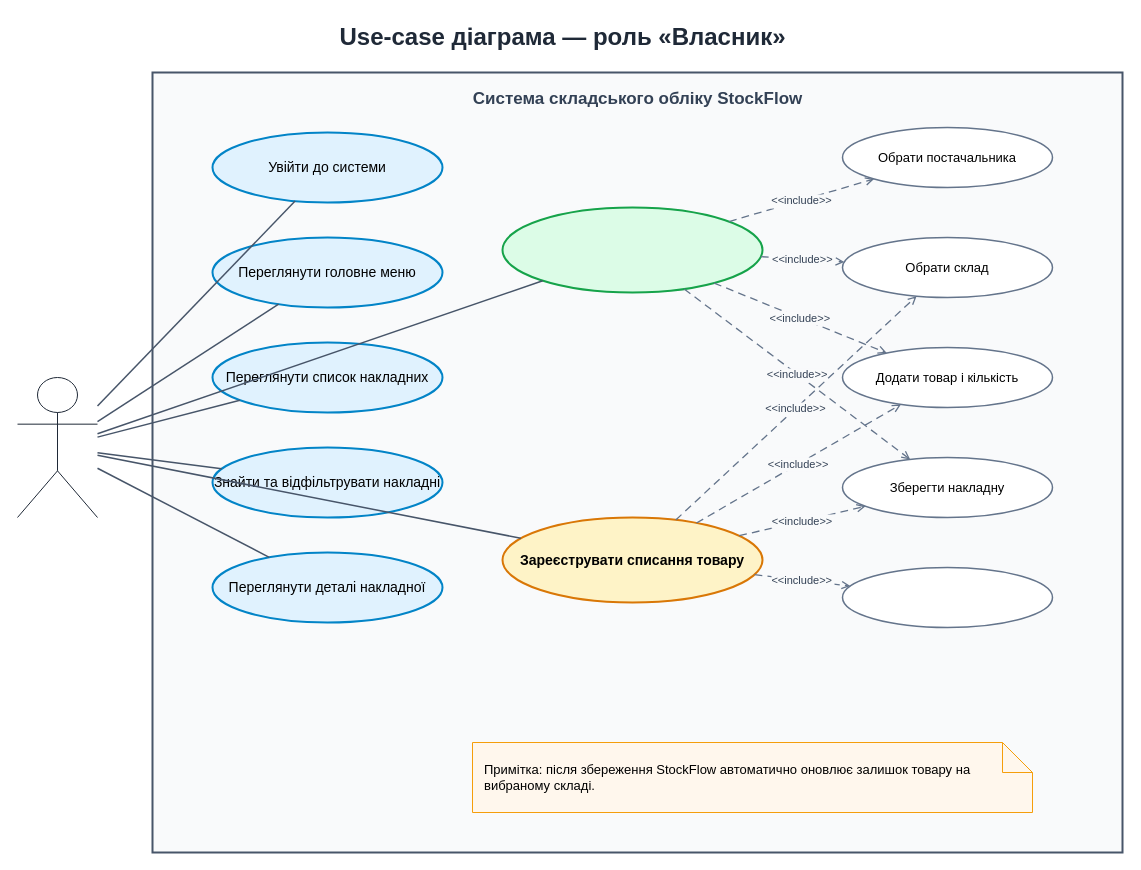
Image size: 1141x870. Some labels were removed from this diagram. Each missing label, with the box of its shape:
Власник: (16, 376, 98, 518)
Зареєструвати надходження товару: (501, 206, 763, 293)
Перевірити достатній залишок: (841, 566, 1053, 628)
